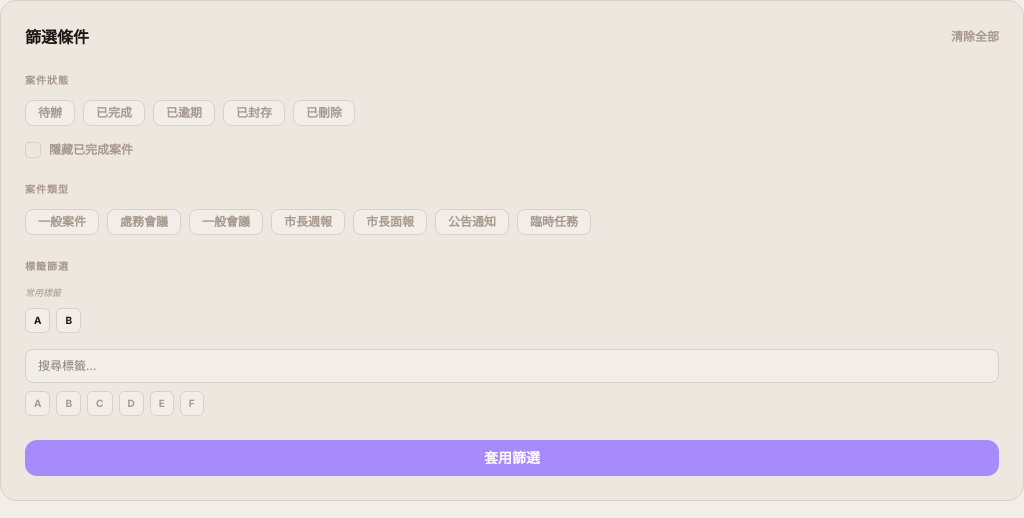
Scenario: ReportFilterPanel.vue › should filter tags based on search query
In the field with placeholder "搜尋標籤...": (512, 366) [25,348,999,382], type "A"
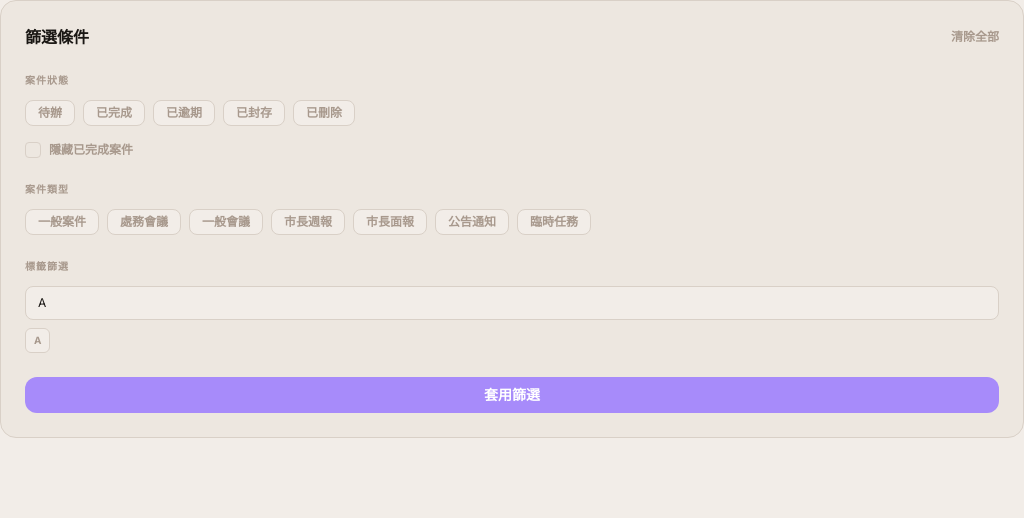
expect the text "A" is shown: met, box [25,328,50,353]
expect the text "B" is gone: met
